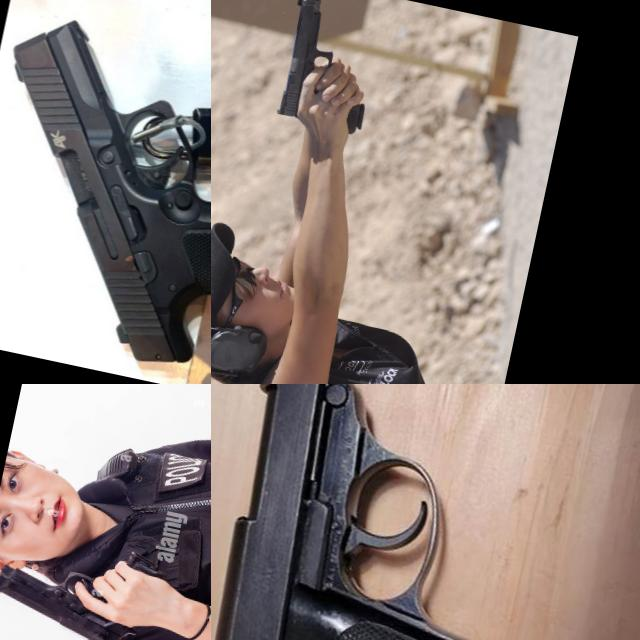handgun: (211, 384, 640, 640), (0, 2, 211, 384), (0, 515, 176, 640), (267, 0, 389, 141)
